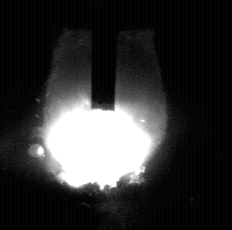arame: (91, 0, 116, 112)
poca: (43, 0, 168, 230)
